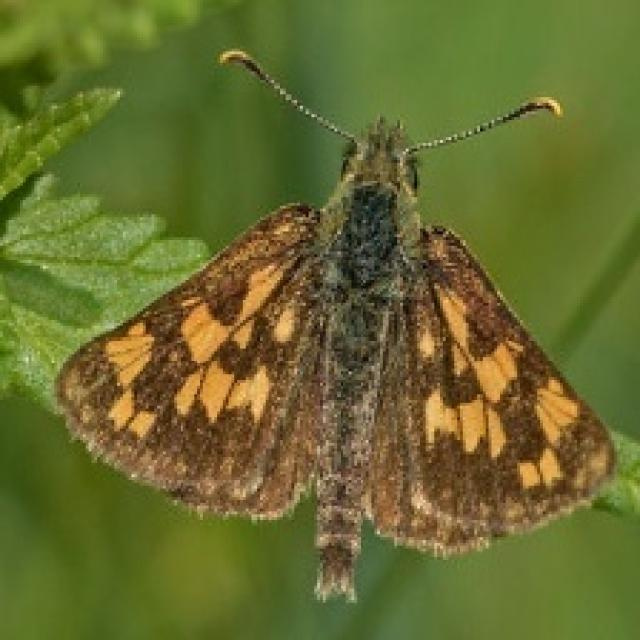butterfly: (52, 46, 617, 603)
